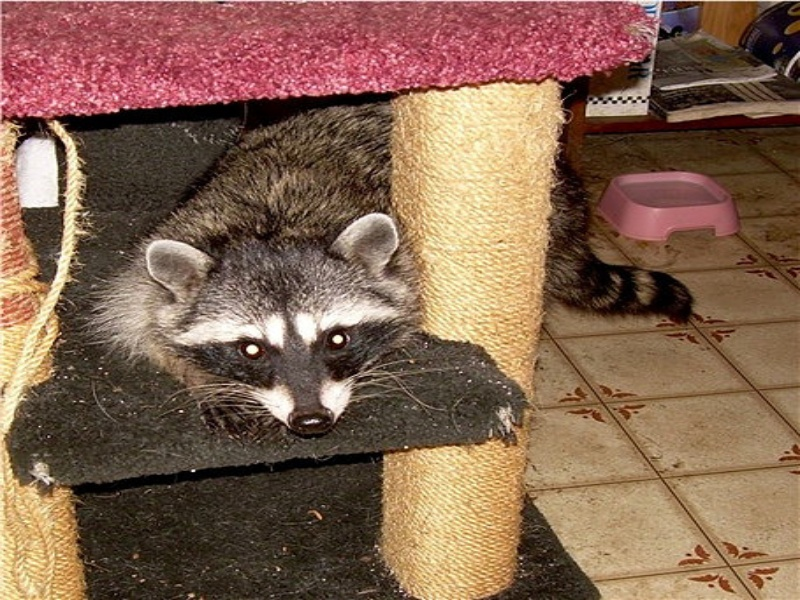raccoon: (81, 75, 698, 444)
